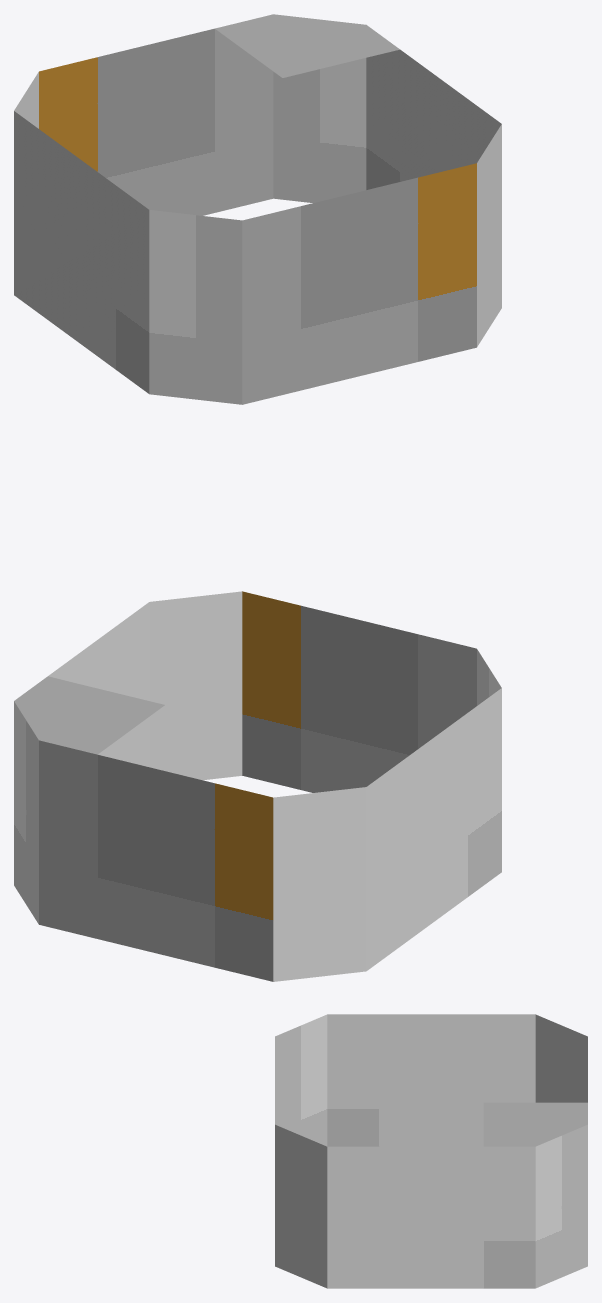
The model's file is light.obj.
3 views of the same model, one above another, from view 1: azimuth 30°, elevation 25°; view 2: azimuth 150°, elevation 25°; view 3: azimuth 270°, elevation 25° (orthographic). The views are drawn at different scales.
Parts seen in each view (by area): view 1: Light_Cube; view 2: Light_Cube; view 3: Light_Cube.
Part boxes in pixels (x1=…): Light_Cube: x1=14, y1=14, x2=501, y2=404; Light_Cube: x1=14, y1=591, x2=501, y2=981; Light_Cube: x1=275, y1=1014, x2=587, y2=1288.
Size of the model in its own units: 0.375 by 0.2504 by 0.6875.
